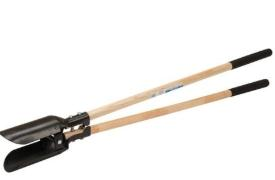PELLE: (0, 43, 275, 180)
